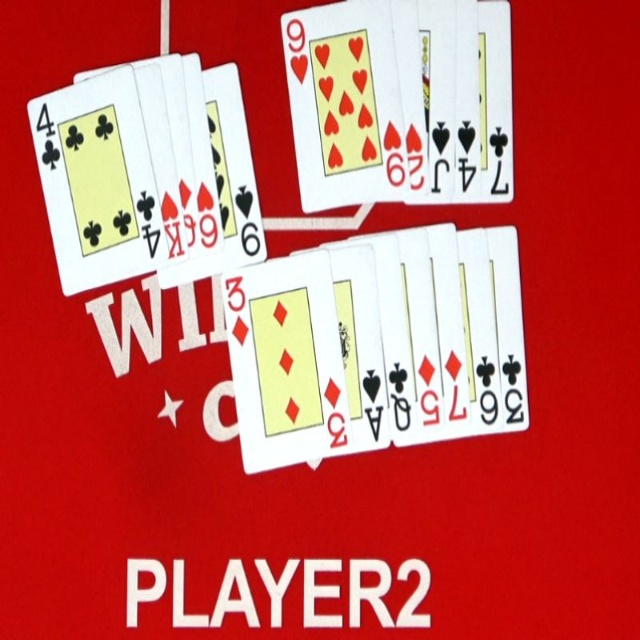3D: (218, 266, 254, 349), (318, 367, 350, 450)
4C: (131, 177, 166, 265), (29, 94, 64, 174)
7C: (487, 122, 512, 199)
9H: (282, 15, 314, 91), (381, 117, 406, 192)
9S: (232, 178, 266, 263)
